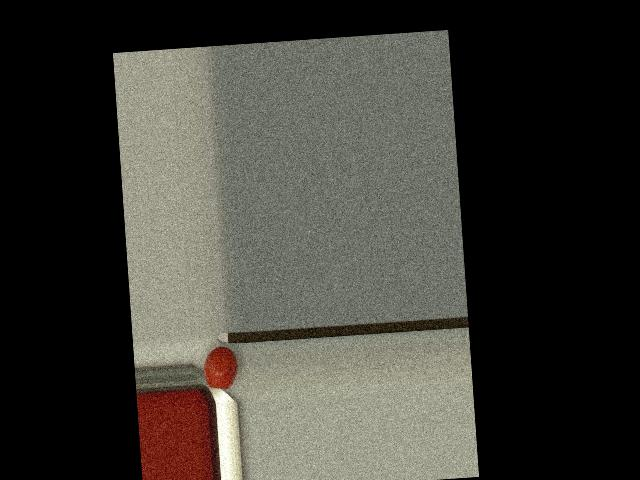tomato: (202, 345, 239, 390)
